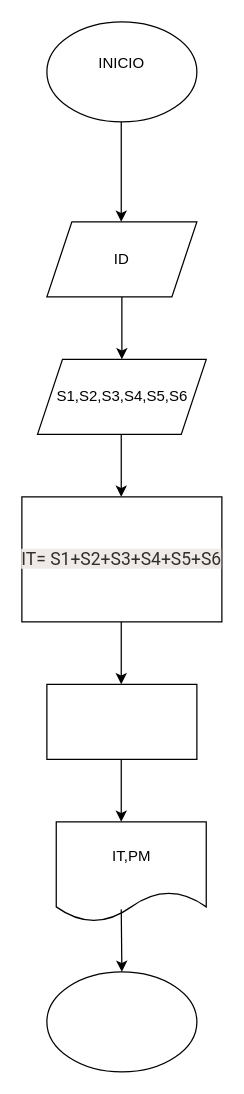
The diagram is 244 pixels wide and 1094 high, and some of its shapes have lost their labels. Here are the shapes that lost their labels. From the top down, the centre of each, then its label:
(121,721): PM= IT/6
(121,1021): FIN
